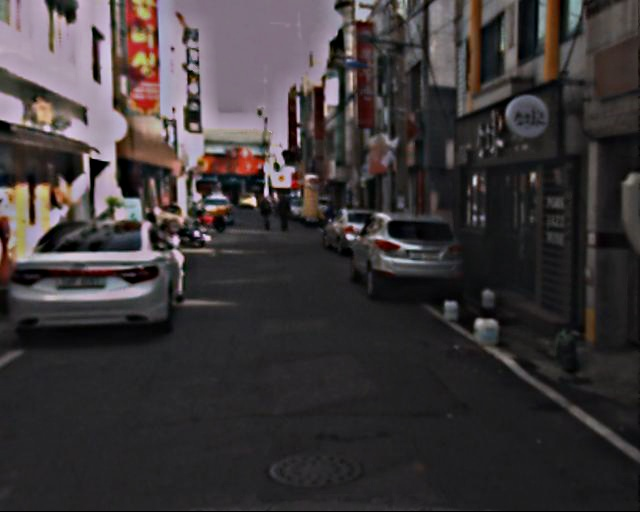person: (277, 191, 295, 235), (261, 193, 277, 231)
